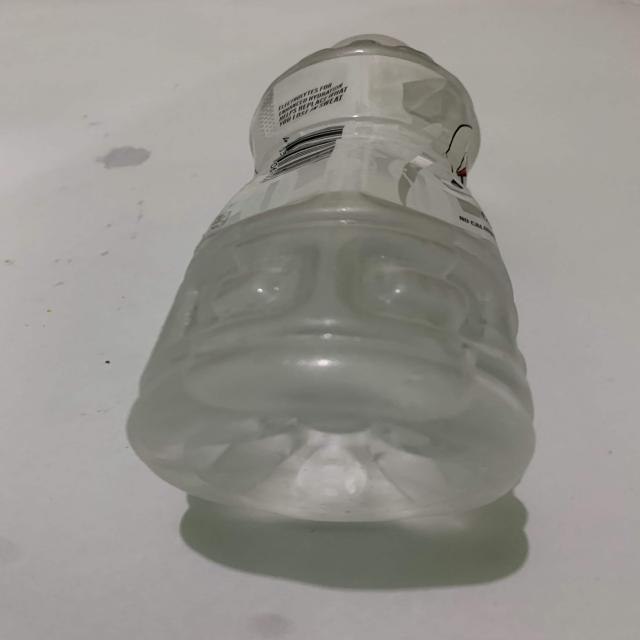bottle: (115, 20, 572, 556)
